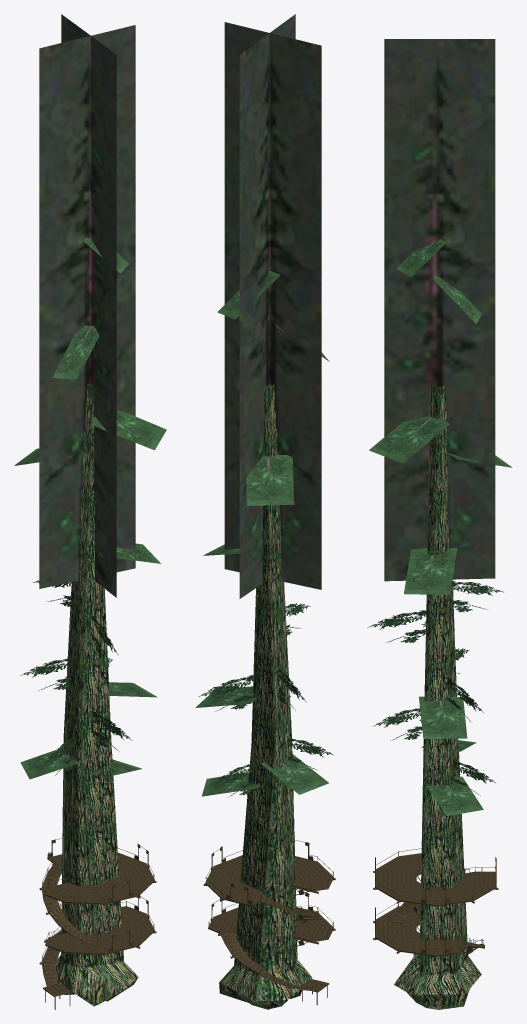
File: thm_endr_village_tree_s01_l1.fbx
3 renders of one model, left to right at view 1: azimuth 30°, elevation 25°; view 2: azimuth 150°, elevation 25°; view 3: azimuth 270°, elevation 25°, orthographic.
Parts seen in each view (by area): view 1: mesh_node; view 2: mesh_node; view 3: mesh_node.
Boxes of the visible parts, x1=… form: mesh_node: x1=14, y1=14, x2=166, y2=1009; mesh_node: x1=195, y1=14, x2=335, y2=1009; mesh_node: x1=367, y1=39, x2=512, y2=1009.
Size of the model in its own units: 25.18 by 192 by 26.44.
